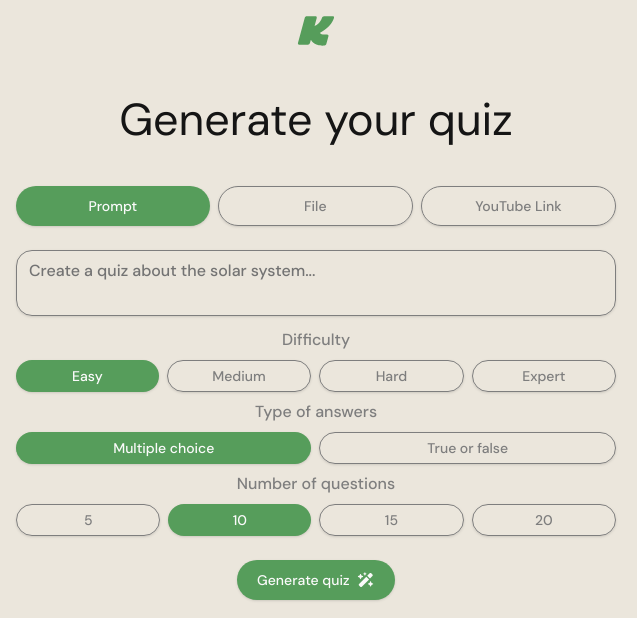
Test: Conditional rendering › should display correct textarea when link option selected
Click the radio button labelled "YouTube Link" at point(518, 206), box [421,186,616,226]
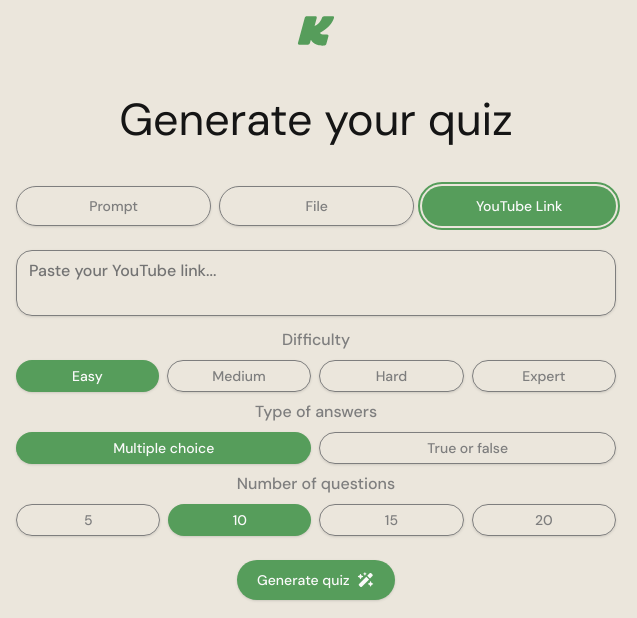
Expected: the text box with placeholder "Paste your YouTube link..." is shown, [16,250,616,316]
